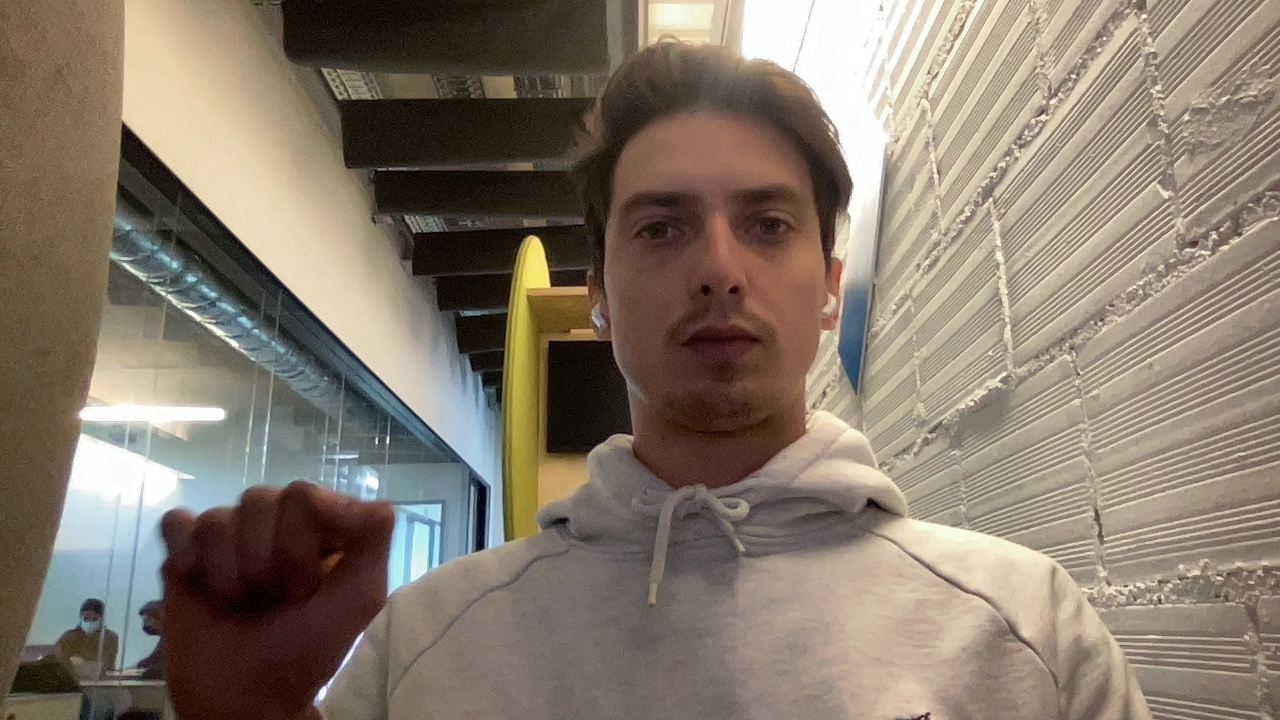yes: (128, 487, 420, 703)
